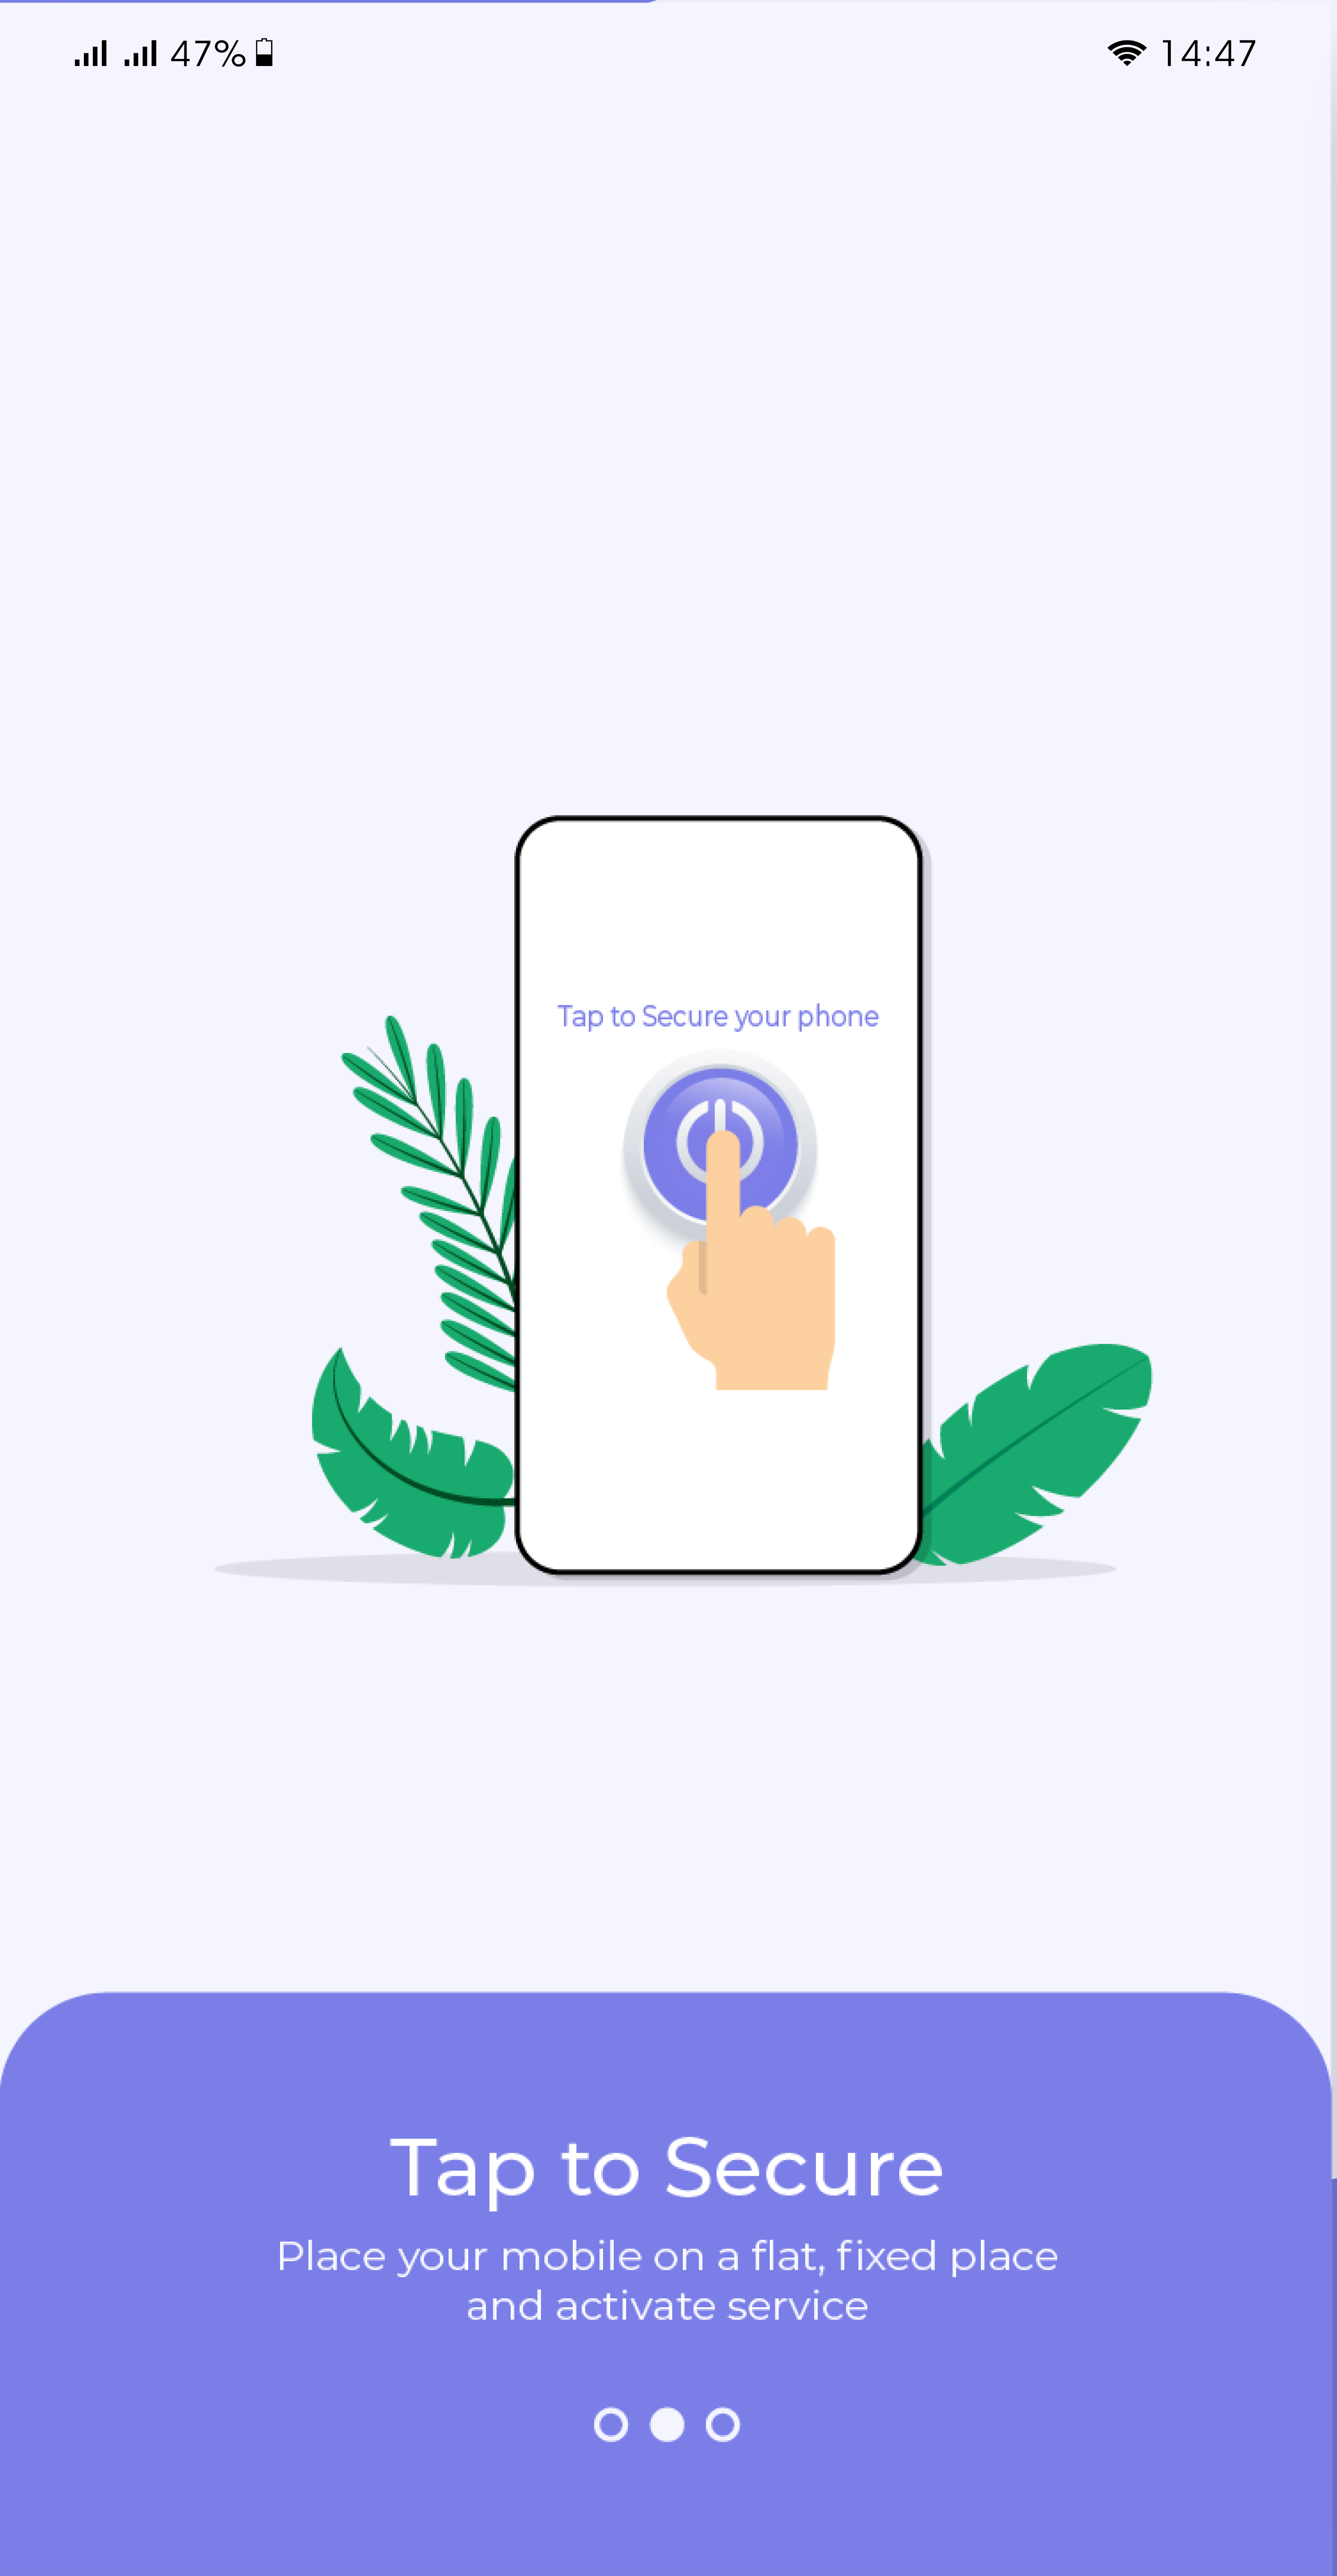Image: (215, 814, 1155, 1584)
PageIndicator: (593, 2406, 743, 2443)
Text: (279, 2239, 1059, 2320), (388, 2136, 944, 2213)
UpperTaskBar: (75, 37, 1255, 68)
